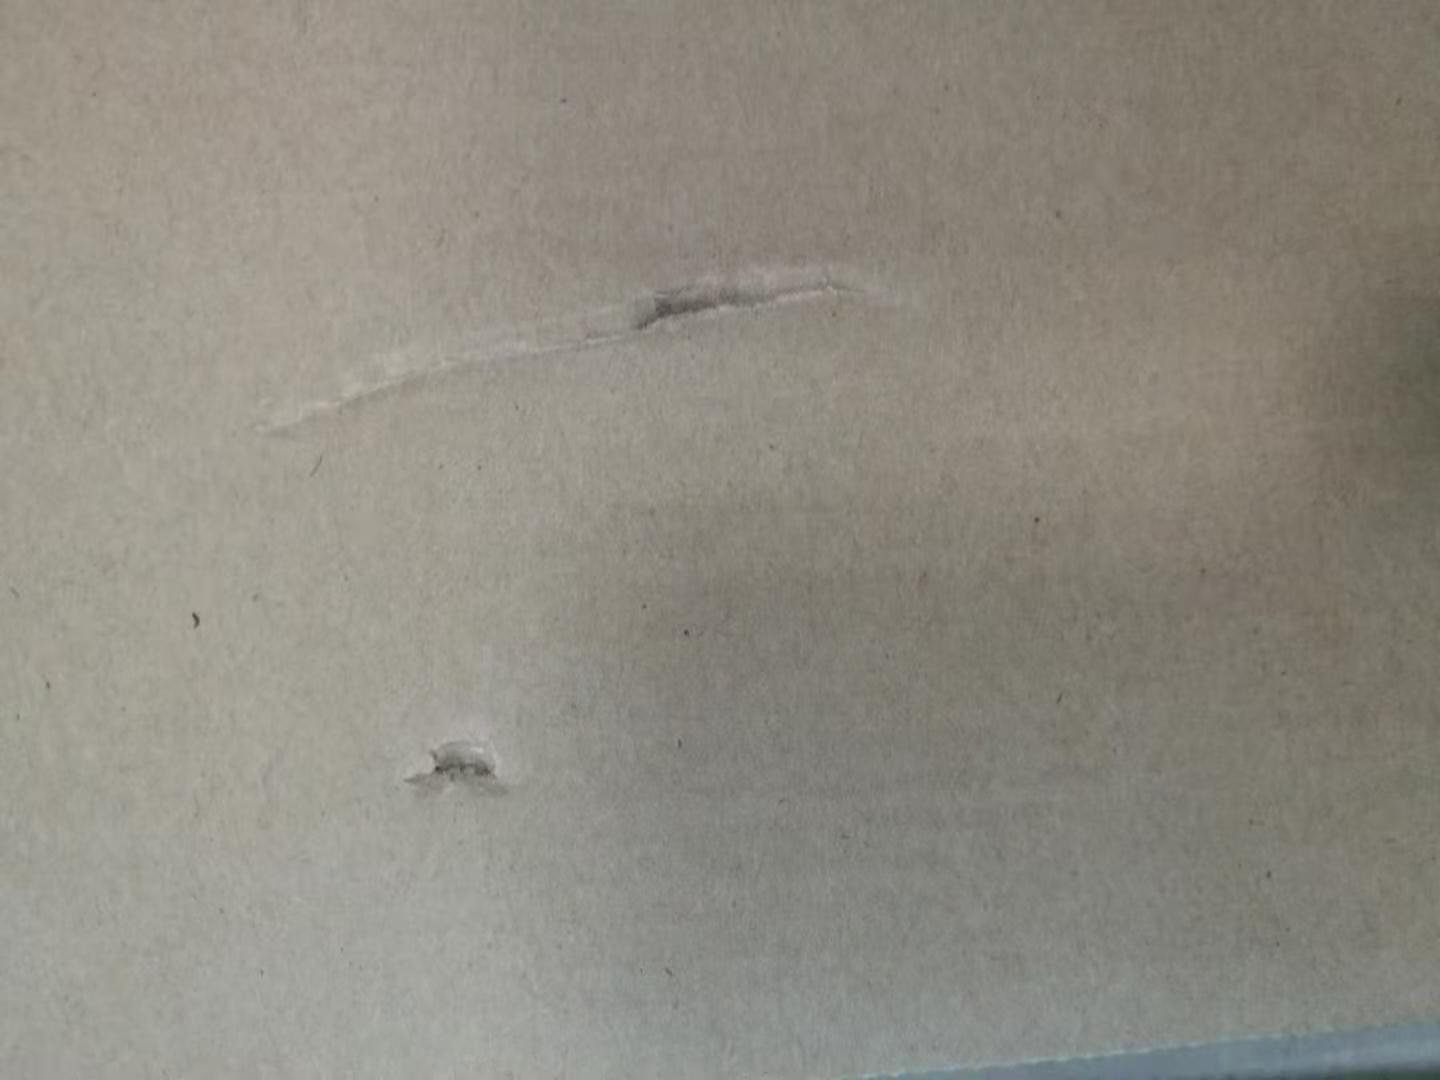defect: (226, 227, 940, 448), (381, 709, 530, 815)
